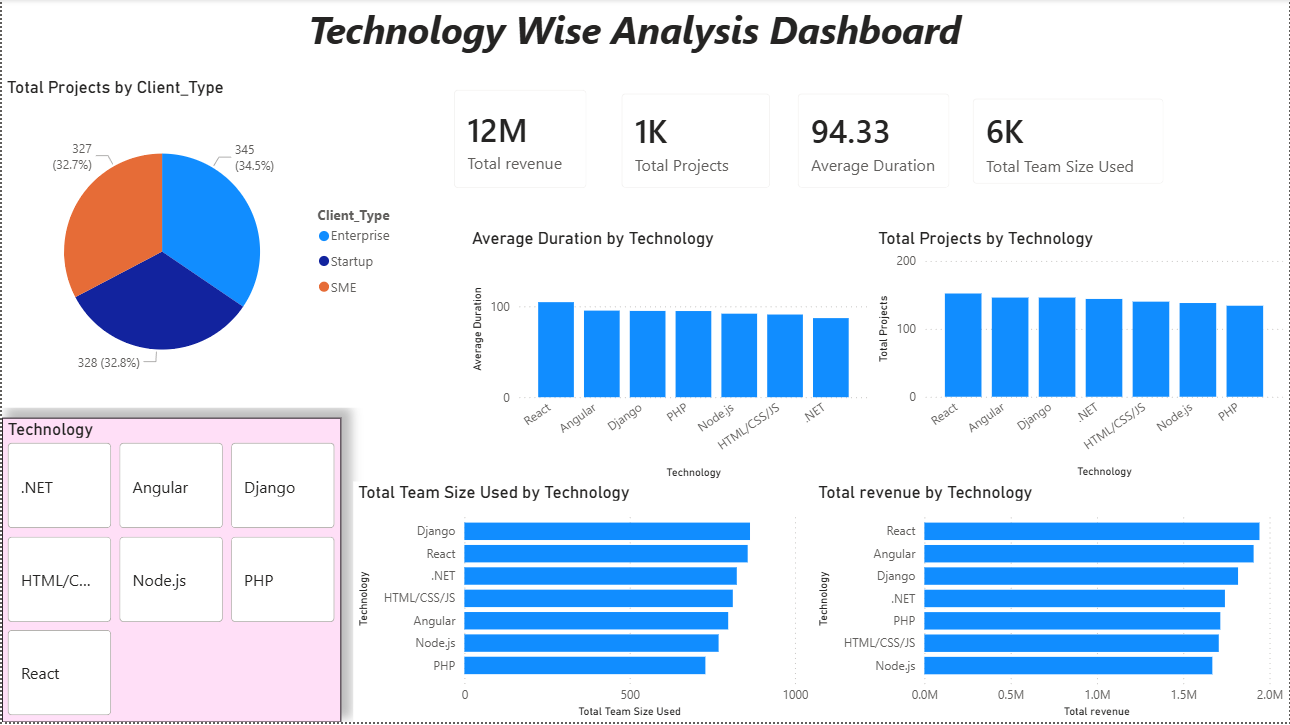

This screenshot's page, from the dashboard's own definition file:
{"tool":"powerbi","page":{"name":"Technology Analysis","canvas":[1280,720],"ordinal":3},"visuals":[{"type":"textbox","box":[300.2,0,678.4,77.9],"z":0},{"type":"advancedSlicerVisual","fields":{"Values":["prolixon project data.Technology"]},"box":[0,417.1,337.8,303.1],"z":1000},{"type":"cardVisual","fields":{"Data":["prolixon project data.Total Projects"]},"box":[599.9,77.7,182.7,128],"z":2000},{"type":"cardVisual","fields":{"Data":["prolixon project data.Average Duration"]},"box":[775.4,77.7,185.6,128],"z":3000},{"type":"barChart","fields":{"Category":["prolixon project data.Technology"],"Y":["prolixon project data.Total revenue"]},"box":[807,480.5,473.3,240.2],"z":4000},{"type":"clusteredColumnChart","fields":{"Category":["prolixon project data.Technology"],"Y":["prolixon project data.Total Projects"]},"box":[867.4,227.3,412.9,253.2],"z":5000},{"type":"barChart","fields":{"Category":["prolixon project data.Technology"],"Y":["prolixon project data.Total Team Size Used"]},"box":[349.6,480.2,457.8,240.1],"z":6000},{"type":"columnChart","fields":{"Category":["prolixon project data.Technology"],"Y":["prolixon project data.Average Duration"]},"box":[463.2,227.3,404.2,254.6],"z":7000},{"type":"pieChart","fields":{"Category":["prolixon project data.Client_Type"],"Y":["prolixon project data.Total Projects"]},"box":[0,77.1,408,329.6],"z":8000},{"type":"cardVisual","fields":{"Data":["prolixon project data.Total revenue"]},"box":[433,73.4,166.9,132.3],"z":9000},{"type":"cardVisual","fields":{"Data":["prolixon project data.Total Team Size Used"]},"box":[949.4,82,224.4,119.4],"z":10000}]}

Visuals, with their boxes in screenshot pixels (x1, y1, x2, y2), scaled from the page's 1280x720 canvas onto the 1290x725 screenshot:
textbox: <region>303, 0, 986, 78</region>
advancedSlicerVisual - prolixon project data.Technology: <region>0, 420, 340, 724</region>
cardVisual - prolixon project data.Total Projects: <region>605, 78, 789, 207</region>
cardVisual - prolixon project data.Average Duration: <region>781, 78, 969, 207</region>
barChart - prolixon project data.Technology x prolixon project data.Total revenue: <region>813, 484, 1289, 724</region>
clusteredColumnChart - prolixon project data.Technology x prolixon project data.Total Projects: <region>874, 229, 1289, 484</region>
barChart - prolixon project data.Technology x prolixon project data.Total Team Size Used: <region>352, 484, 814, 724</region>
columnChart - prolixon project data.Technology x prolixon project data.Average Duration: <region>467, 229, 874, 485</region>
pieChart - prolixon project data.Client_Type x prolixon project data.Total Projects: <region>0, 78, 411, 410</region>
cardVisual - prolixon project data.Total revenue: <region>436, 74, 605, 207</region>
cardVisual - prolixon project data.Total Team Size Used: <region>957, 83, 1183, 203</region>
